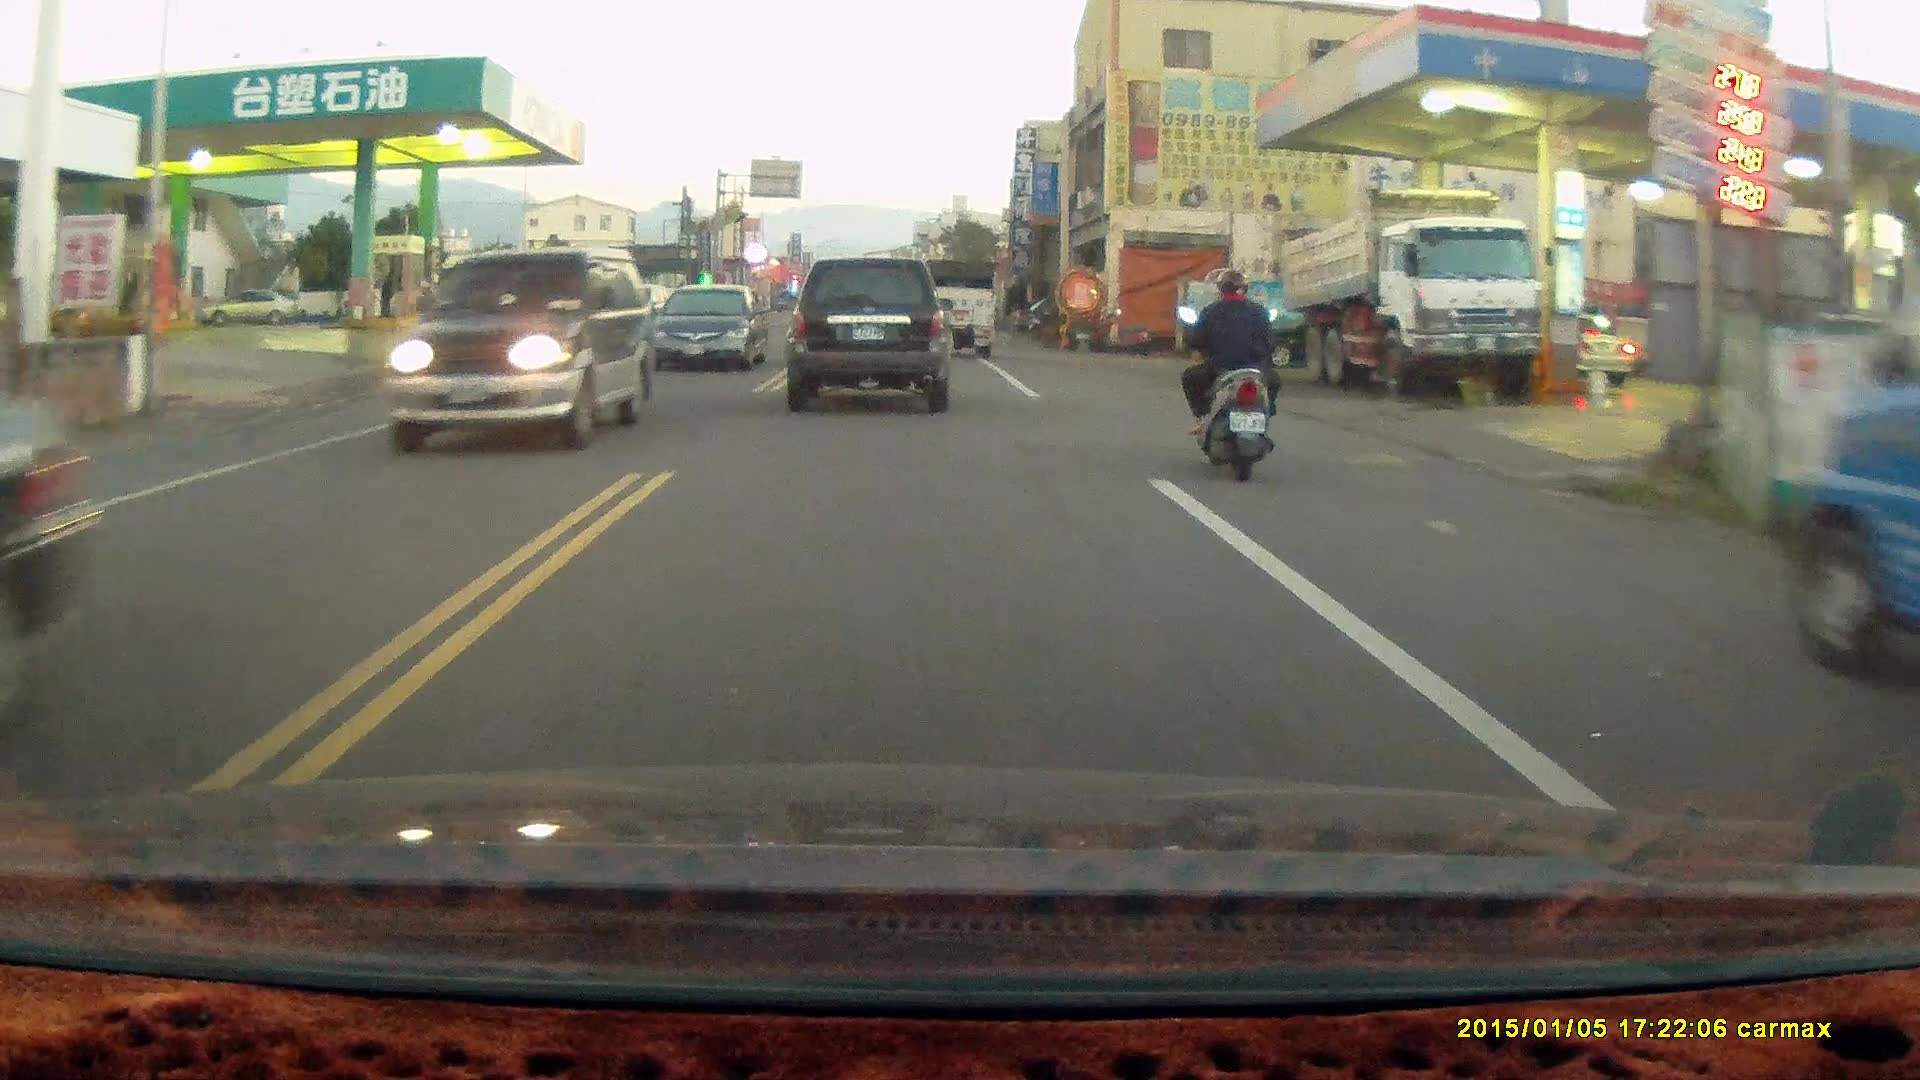rider: (1176, 267, 1283, 484)
vehicle: (1773, 254, 1920, 695), (1276, 187, 1546, 403), (381, 244, 654, 452), (791, 258, 954, 415), (652, 285, 773, 374), (904, 253, 997, 352)
